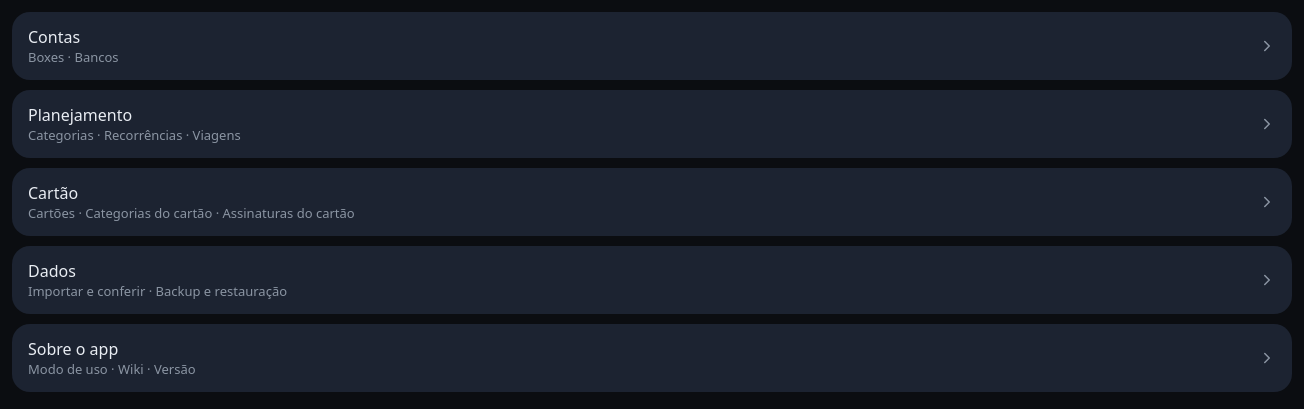
it: tocar num grupo abre o submenu, e tocar num item abre a subtela
This screenshot has width=1304, height=409.
Click the button "Cartão": (53, 193) 12,168 -> 1292,236
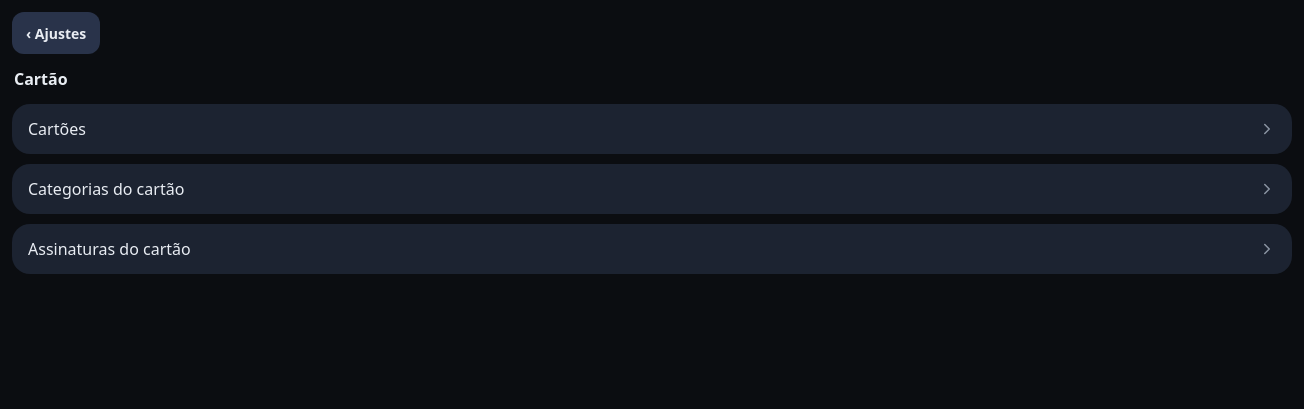
Expected: the heading "Cartão" is shown, 14,68 -> 68,90
Now the number of buttons is 4
Click the button "Assinaturas do cartão": (109, 249) 12,224 -> 1292,274
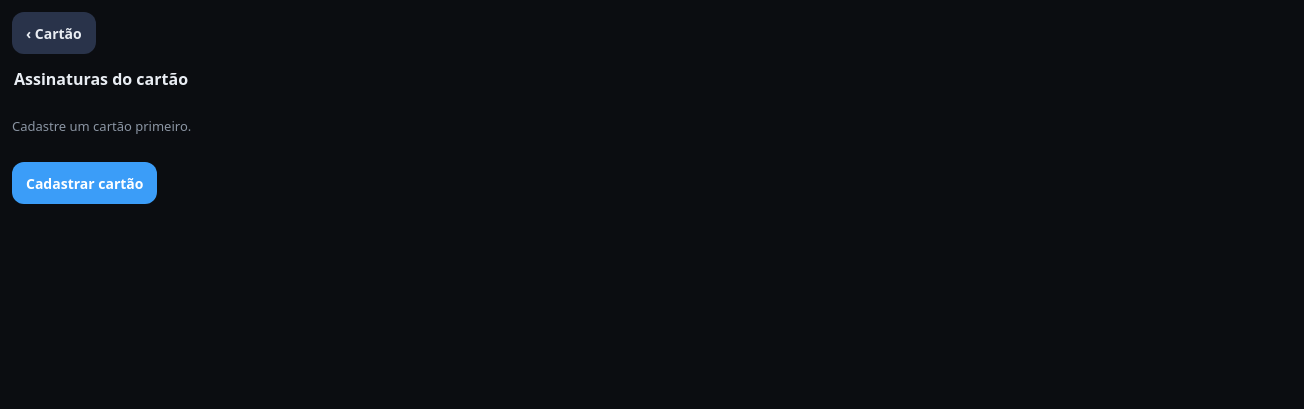
Now the heading "Assinaturas do cartão" is shown, box 14,68 -> 188,90
Now the button "‹ Cartão" is shown, box 12,12 -> 96,54
